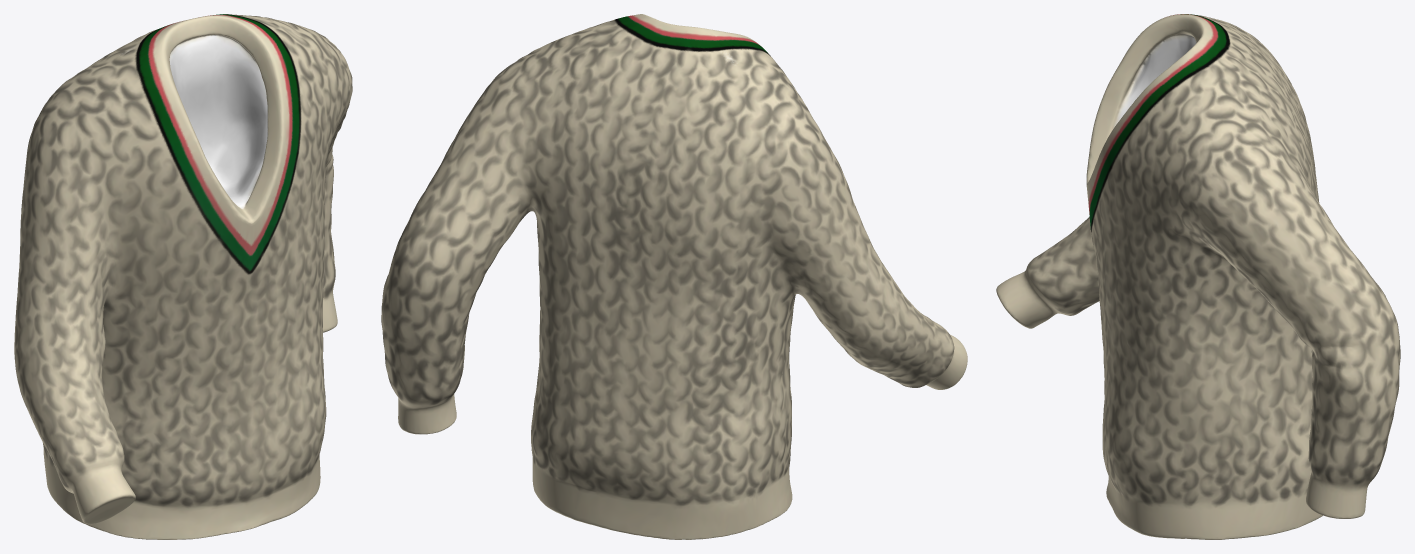
The model's file is Male_Outer_WhiteKnitted.glb.
The picture shows the model from 3 angles, left to right: view 1: azimuth 30°, elevation 25°; view 2: azimuth 150°, elevation 25°; view 3: azimuth 270°, elevation 25°; orthographic projection. The views are drawn at different scales.
Visible parts, largest first — view 1: IVB OUTER KNITTEDWHITE 01; view 2: IVB OUTER KNITTEDWHITE 01; view 3: IVB OUTER KNITTEDWHITE 01.
Part boxes in pixels (x1,y1,x2,y2): IVB OUTER KNITTEDWHITE 01: (14, 14, 352, 539); IVB OUTER KNITTEDWHITE 01: (381, 14, 967, 539); IVB OUTER KNITTEDWHITE 01: (996, 14, 1400, 539).
Size of the model in its own units: 0.9976 by 1.08 by 0.849.
1 material, 1 textured.
